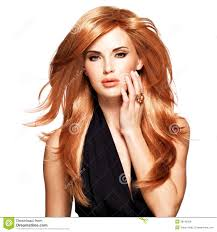white_female: (79, 29, 148, 109)
